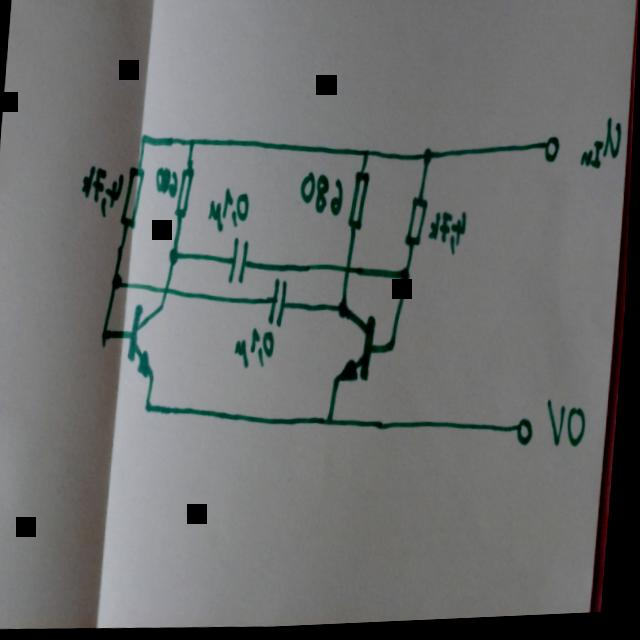capacitor: (229, 237, 254, 289), (269, 278, 292, 330)
crossover: (344, 265, 357, 278), (163, 285, 176, 297)
junction: (112, 272, 127, 292), (170, 247, 185, 267), (400, 269, 415, 288), (422, 150, 436, 170), (339, 302, 353, 321), (103, 327, 114, 347), (146, 399, 158, 416), (140, 132, 152, 148), (327, 418, 340, 432), (391, 342, 401, 356), (189, 136, 199, 149), (363, 150, 373, 162)
resistor: (122, 165, 148, 230), (348, 170, 373, 234), (406, 197, 432, 251), (176, 164, 198, 220)
terminal: (518, 421, 540, 450), (544, 139, 563, 168)
text: (299, 170, 349, 222), (581, 118, 626, 175), (81, 163, 127, 218), (547, 401, 593, 453), (208, 186, 254, 235), (429, 212, 471, 260), (235, 328, 280, 371), (155, 166, 181, 200)
transistor: (338, 312, 380, 387), (128, 303, 168, 381)
